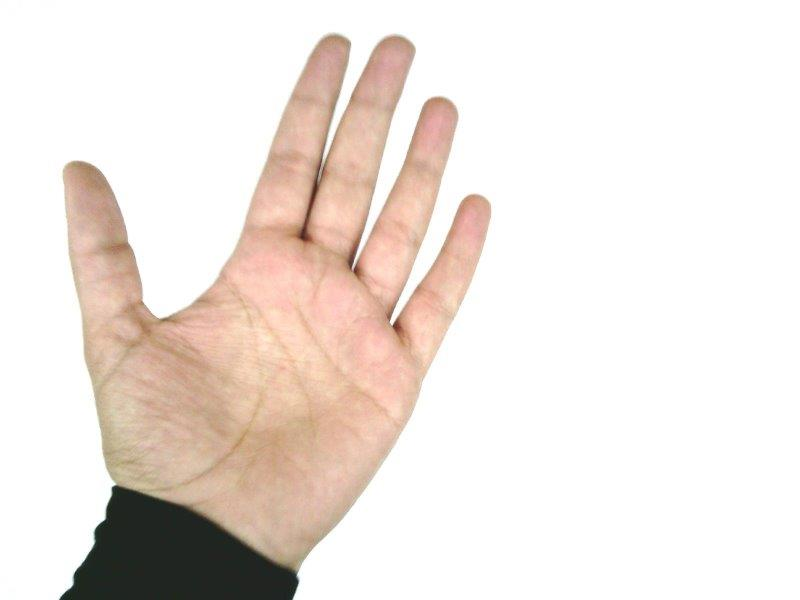hand: (64, 35, 492, 540)
